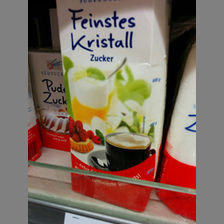tomato_sauce: (55, 1, 169, 212)
